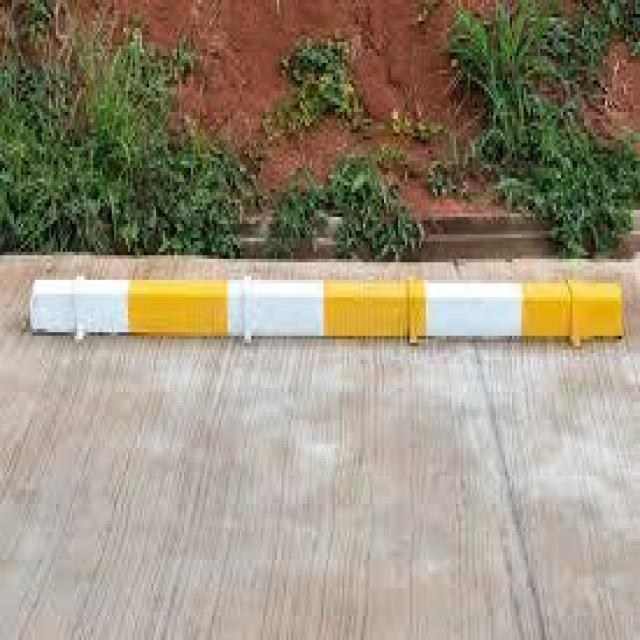bump: (10, 253, 640, 365)
